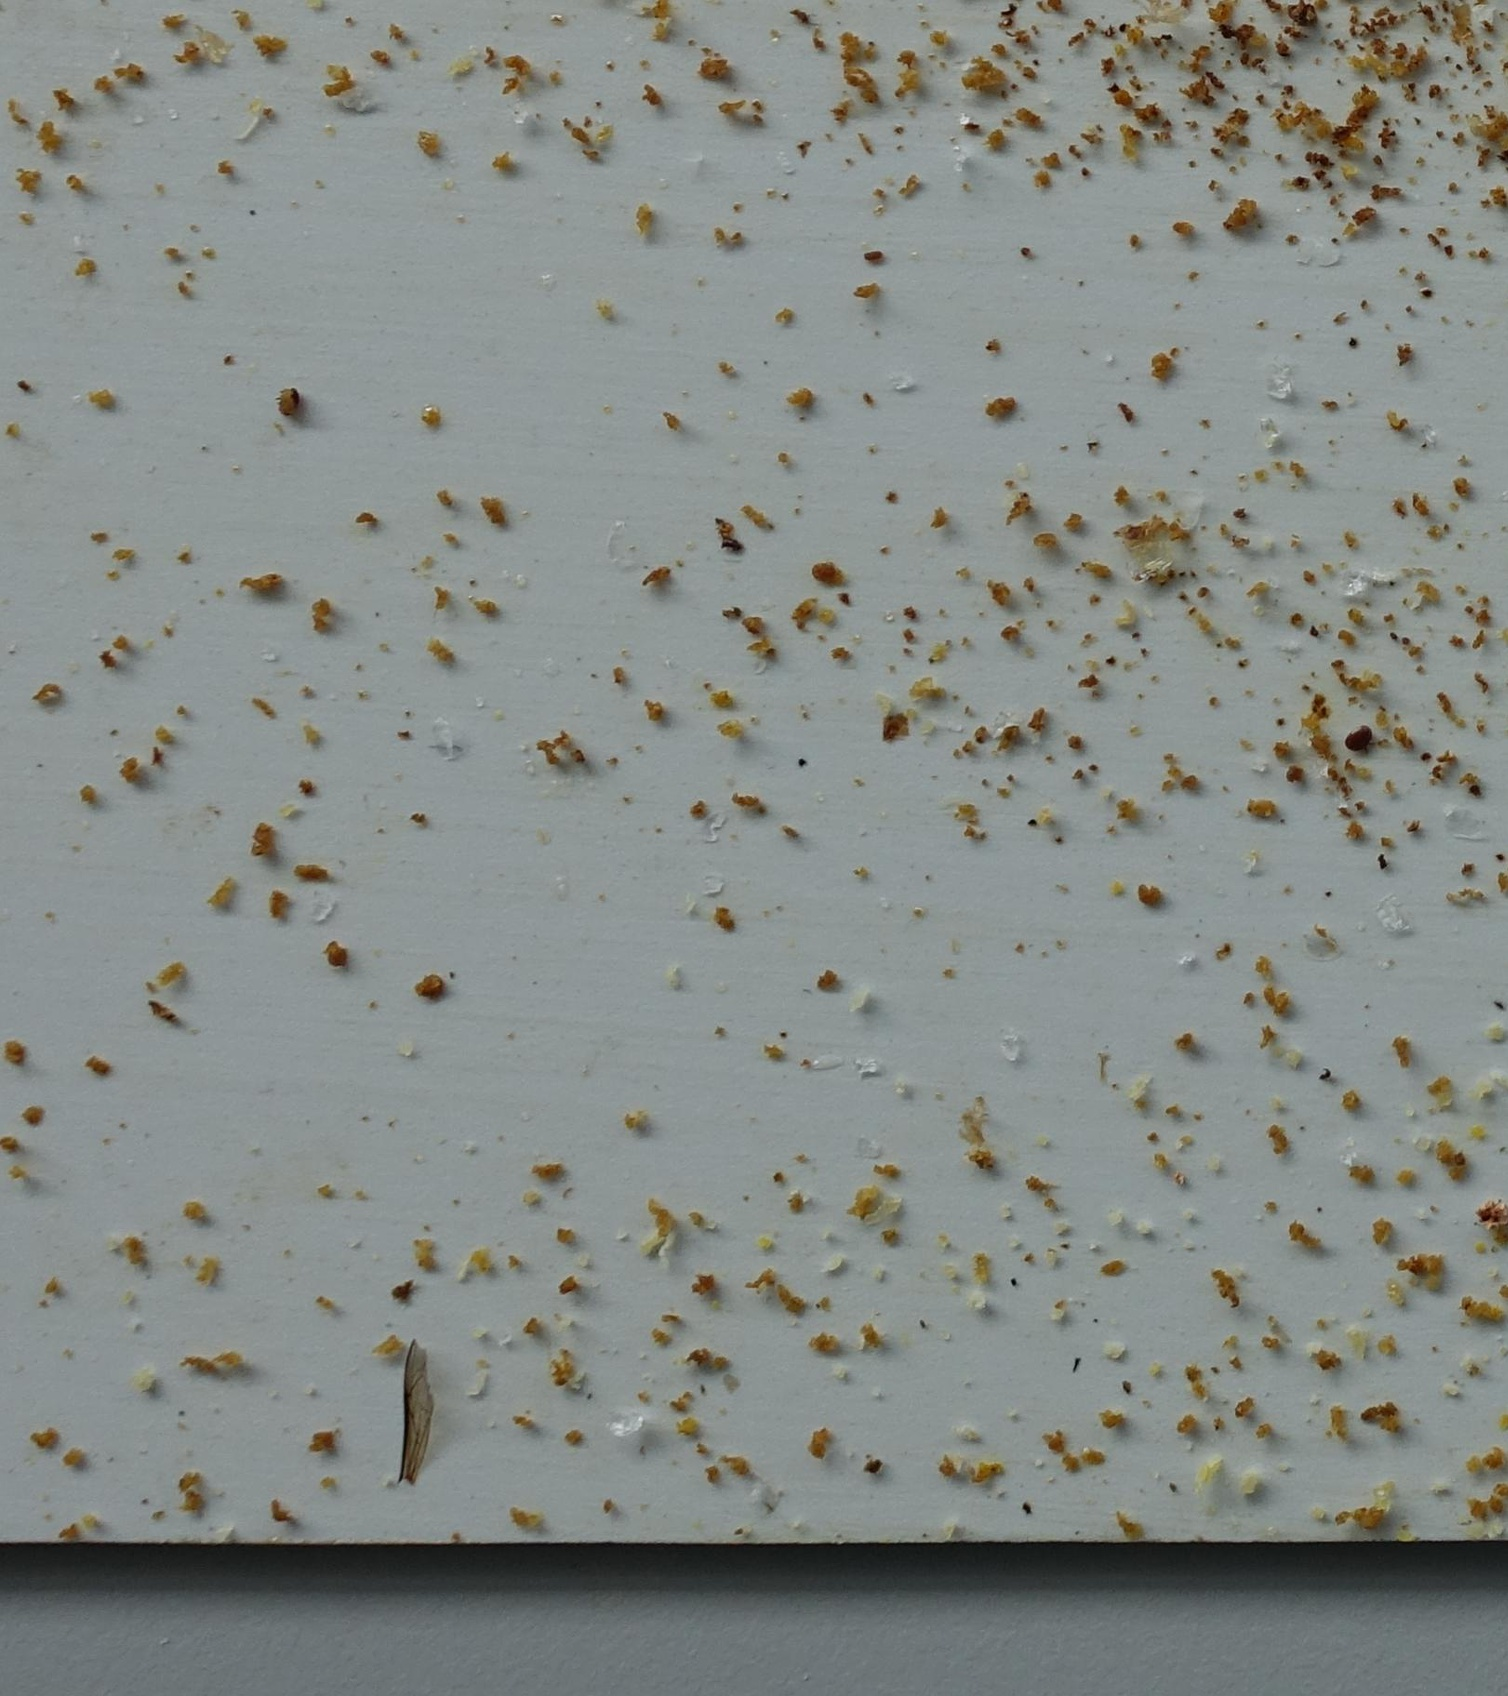Varroa: (1346, 728, 1370, 751)
